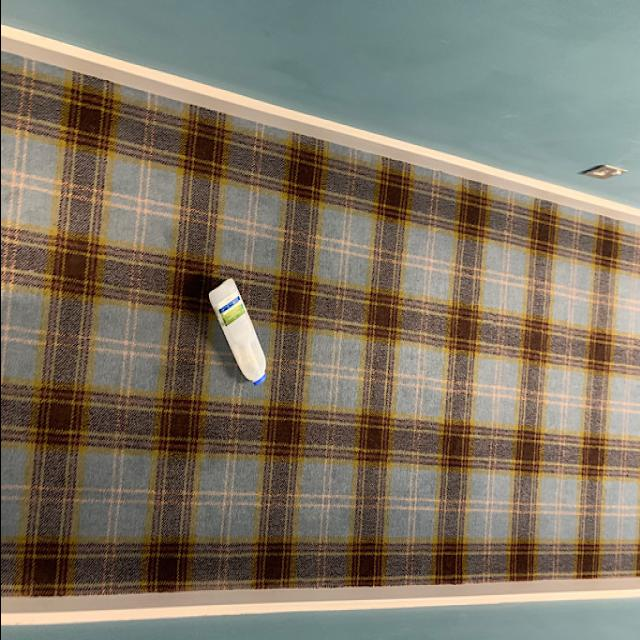litter: (208, 276, 266, 388)
